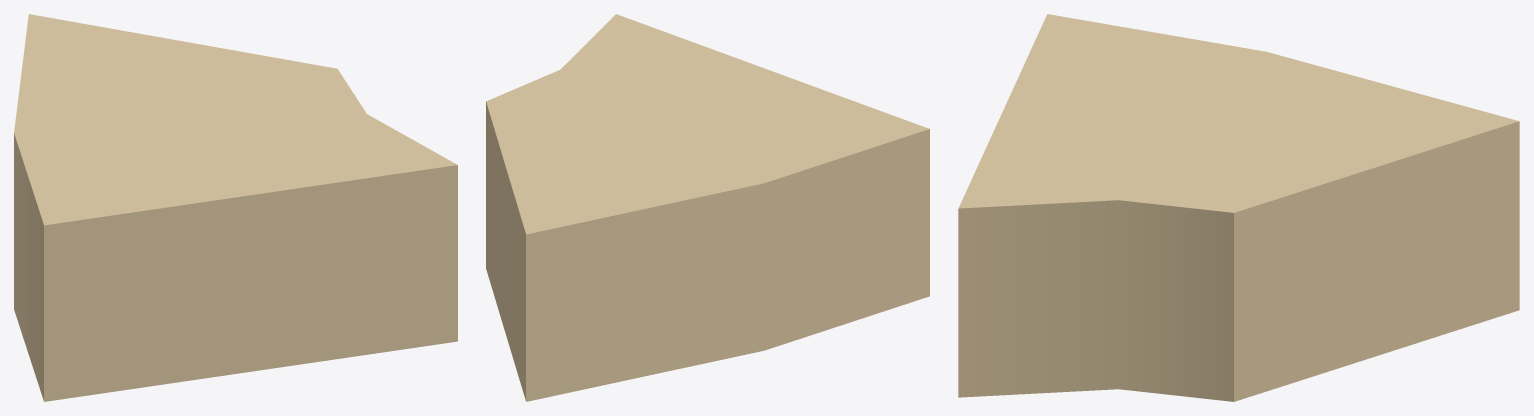
File: changhua.glb
3 renders of one model, left to right at view 1: azimuth 30°, elevation 25°; view 2: azimuth 150°, elevation 25°; view 3: azimuth 270°, elevation 25°, orthographic. The views are drawn at different scales.
Visible parts, largest first — view 1: map_geo Changhua_geo; view 2: map_geo Changhua_geo; view 3: map_geo Changhua_geo.
Boxes of the visible parts, box(x1,y1,x2,y2) form: map_geo Changhua_geo: box(14, 14, 457, 401); map_geo Changhua_geo: box(486, 14, 929, 401); map_geo Changhua_geo: box(958, 14, 1519, 401).
Size of the model in its own units: 0.6275 by 0.2781 by 0.7481.
Materials: 1 (1 with a texture image).
